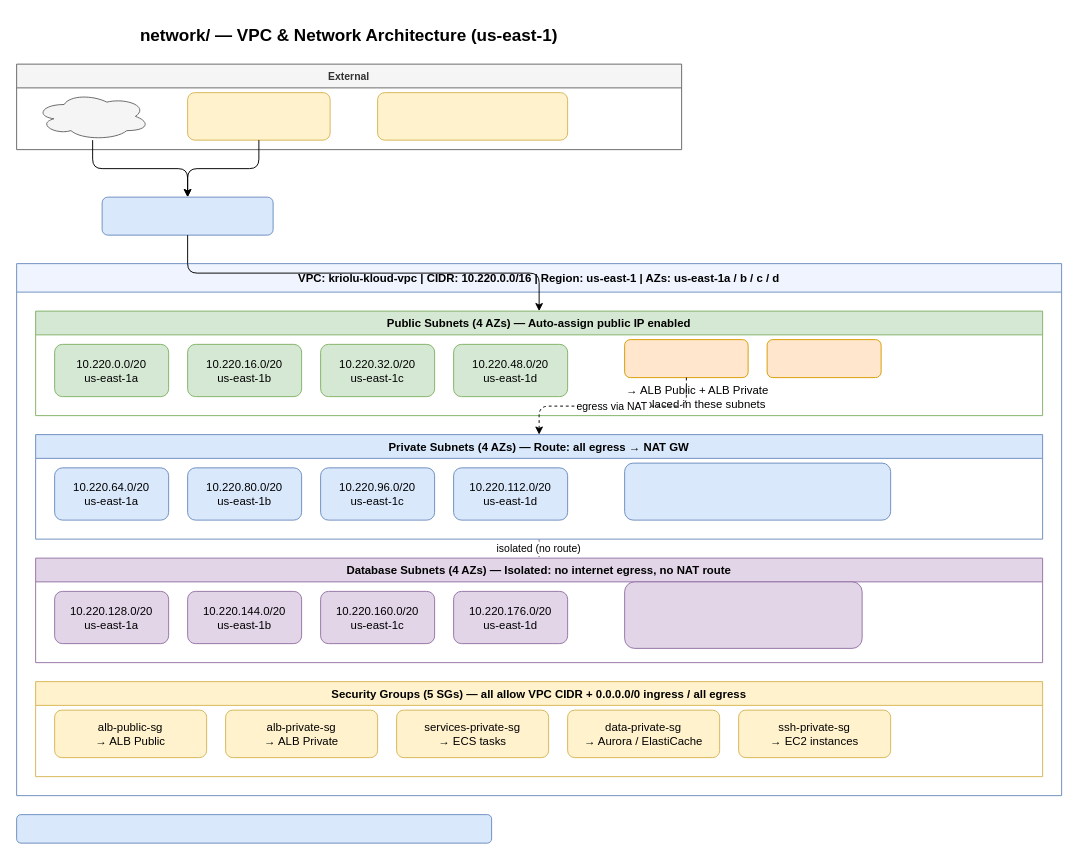
Some shapes in this 1078 by 860 pixel diagram are drawn without their labels. Each missing label, with the centre of its shape:
"ACM *.kriolu-kloud.cv (public) private cert (internal)" belongs at point 472,116.
"Aurora PostgreSQL 17 db.t4g.large data-private-sg DB Subnet Group (4 subnets)" belongs at point 743,614.
"ECS Tasks (bridge mode) EC2 Graviton instances (t4g.small) services-private-sg" belongs at point 757,491.
"Elastic IP (static egress)" belongs at point 823,358.
"Internet" belongs at point 92,116.
"Internet Gateway (IGW)" belongs at point 187,215.
"NAT Gateway (us-east-1a)" belongs at point 686,358.
"Route 53 DNS (A alias records)" belongs at point 258,116.
"Terraform apply order: bootstrap → ✅ network → cluster → apps" belongs at point 254,828.
